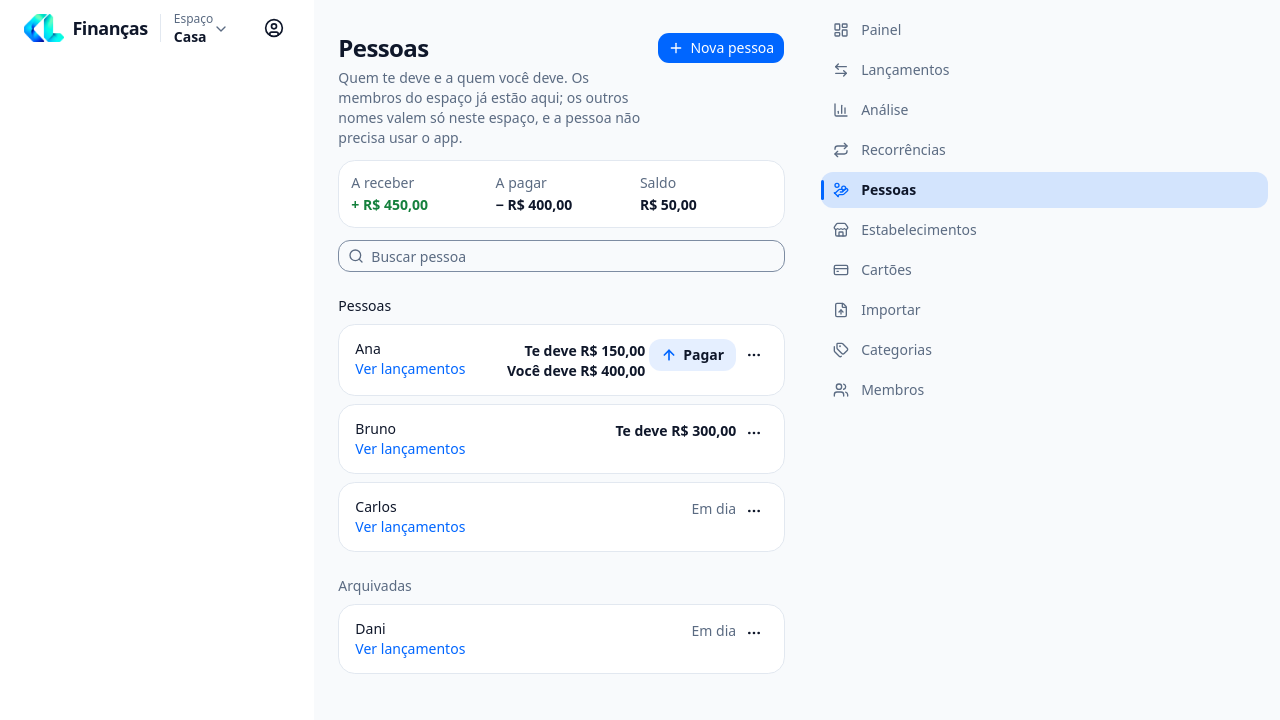
Test: PeoplePage › says so when the history cannot load, without the workspace "not found" notice
This screenshot has width=1280, height=720.
Click the button with aria-label "Ver lançamentos com Ana" at (410, 369), box [355, 359, 465, 379]
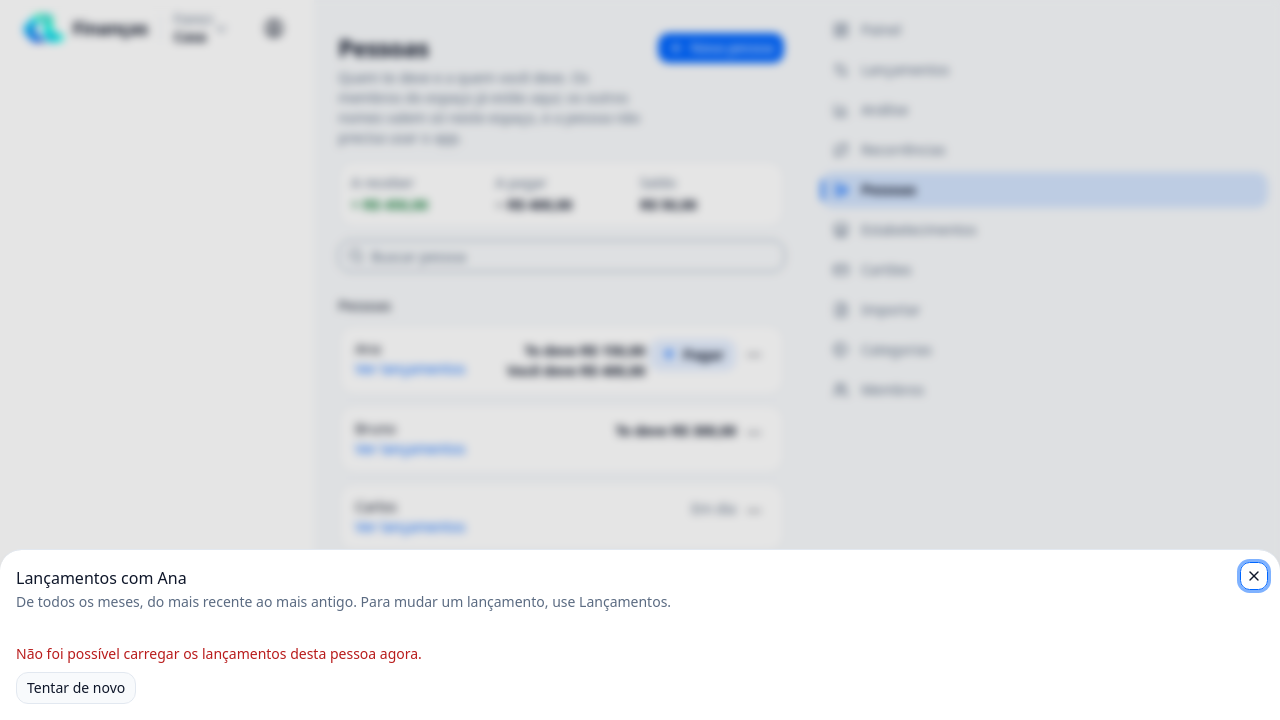
Expected: the message shows "Não foi possível carregar os lançamentos desta pessoa agora.", [16, 644, 422, 663]
